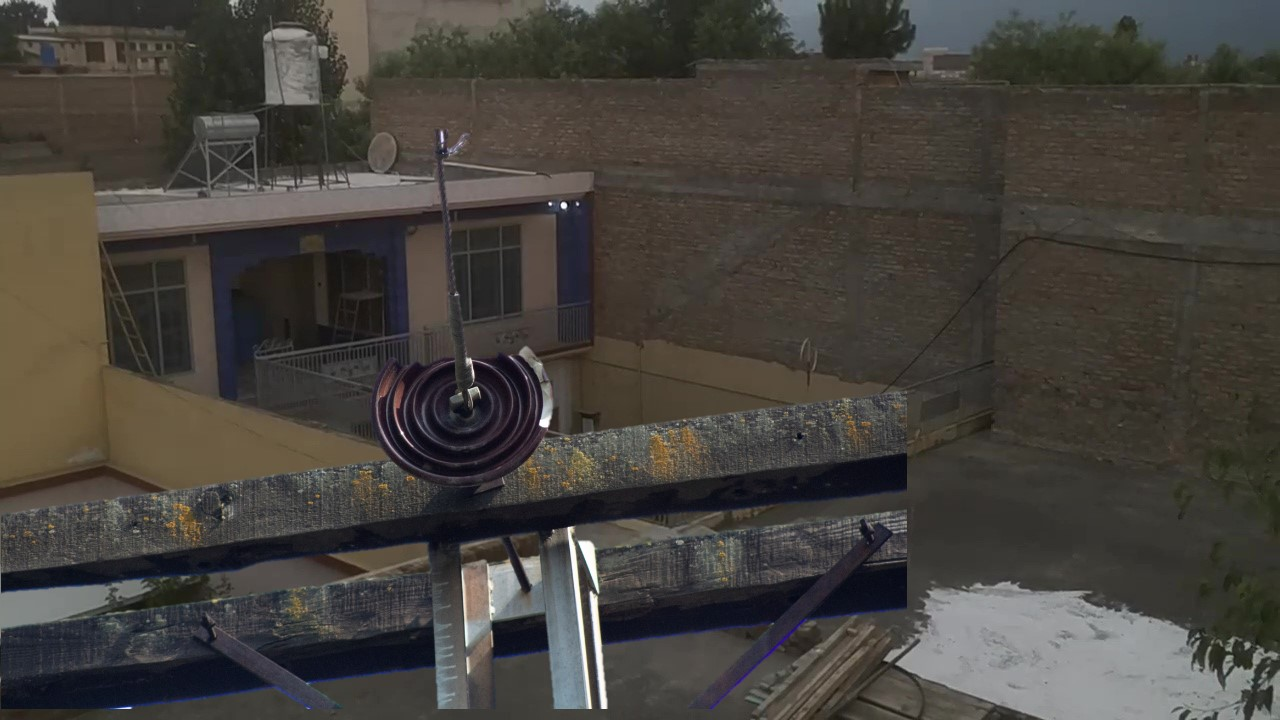defect_disc: (369, 333, 567, 487)
